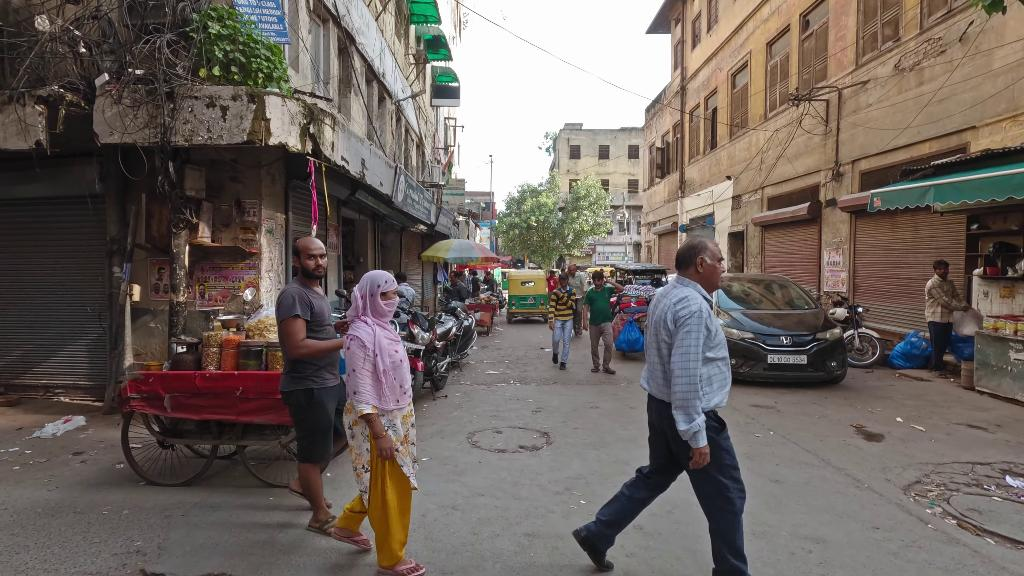garbage: (30, 416, 87, 441), (613, 317, 644, 352)
